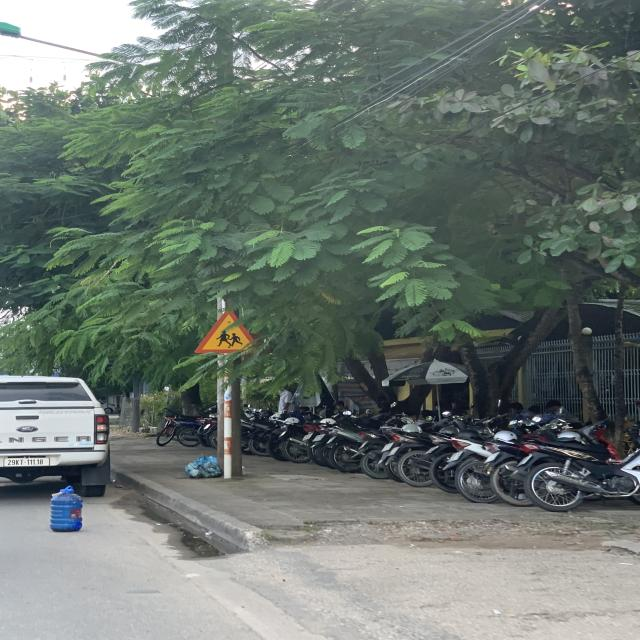Vong_Xuyen: (193, 310, 259, 353)
